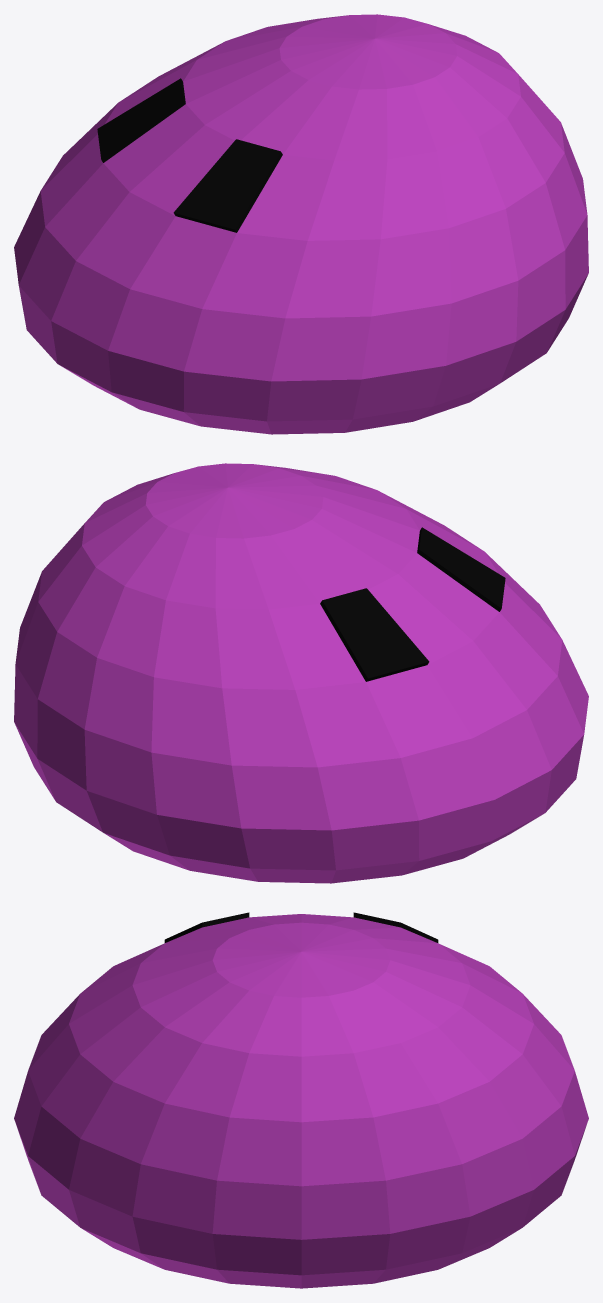
The model's file is Slime.fbx.
The picture shows the model from 3 angles, top to bottom: view 1: azimuth 30°, elevation 25°; view 2: azimuth 150°, elevation 25°; view 3: azimuth 270°, elevation 25°; orthographic projection.
Parts seen in each view (by area): view 1: Slime; view 2: Slime; view 3: Slime.
Boxes of the visible parts, bbox=[...] form: Slime: bbox=[14, 14, 588, 434]; Slime: bbox=[14, 463, 588, 883]; Slime: bbox=[14, 912, 588, 1288].
Size of the model in its own units: 200 by 200 by 114.
Materials: 1 (1 with a texture image).
